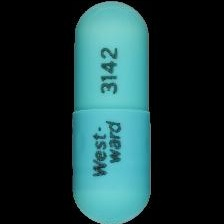33261-151: (0, 0, 224, 224)
